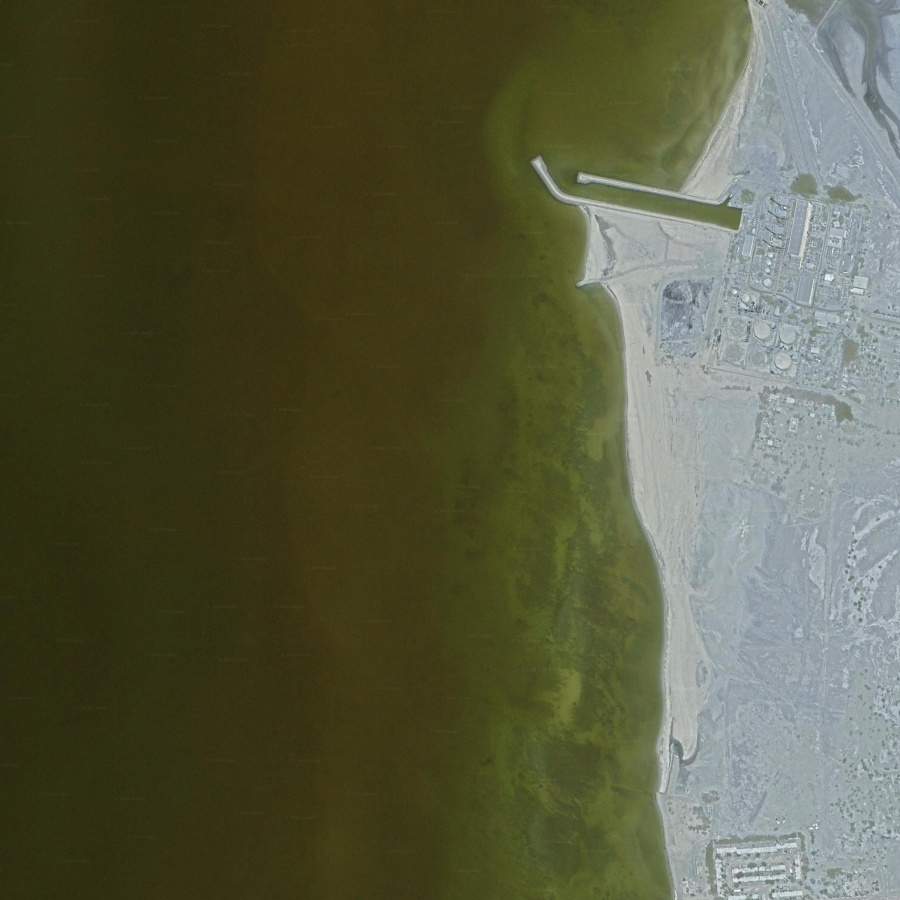PowerPlant: (649, 185, 877, 388)
